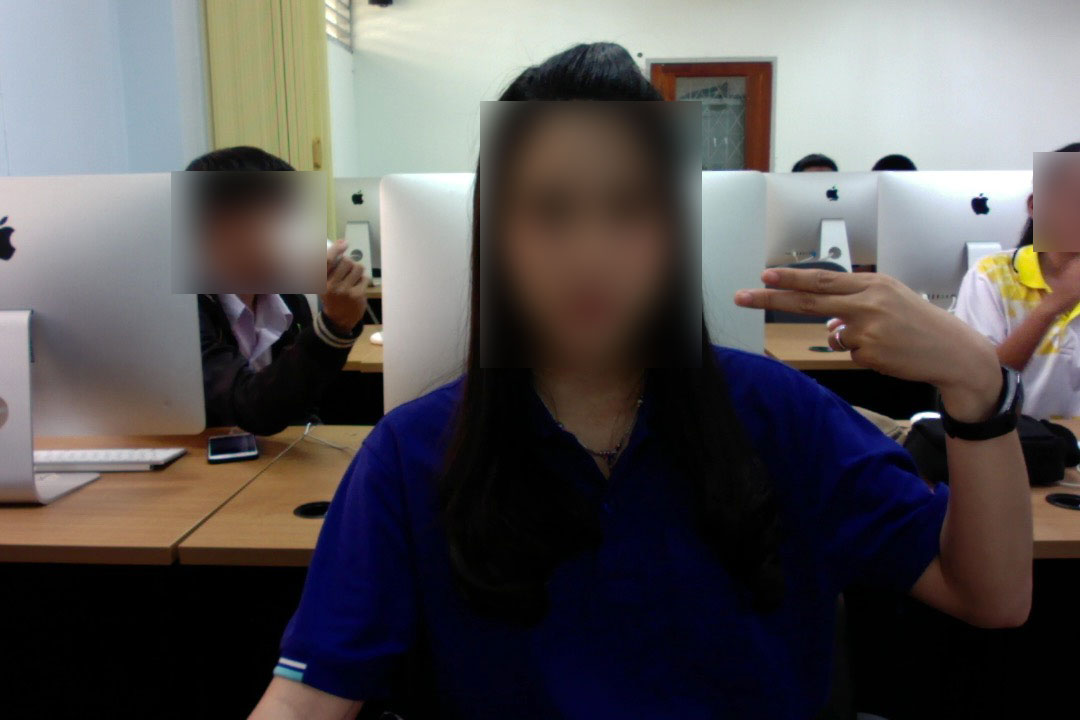hor: (726, 263, 1005, 395)
